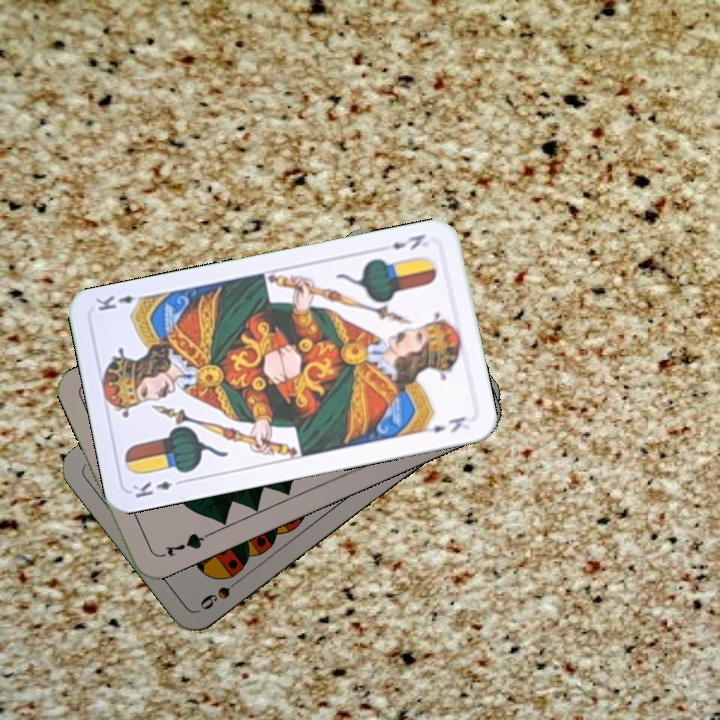EK: (128, 475, 188, 501), (387, 230, 428, 253)
G7: (161, 529, 212, 559)
S9: (195, 571, 247, 613)
